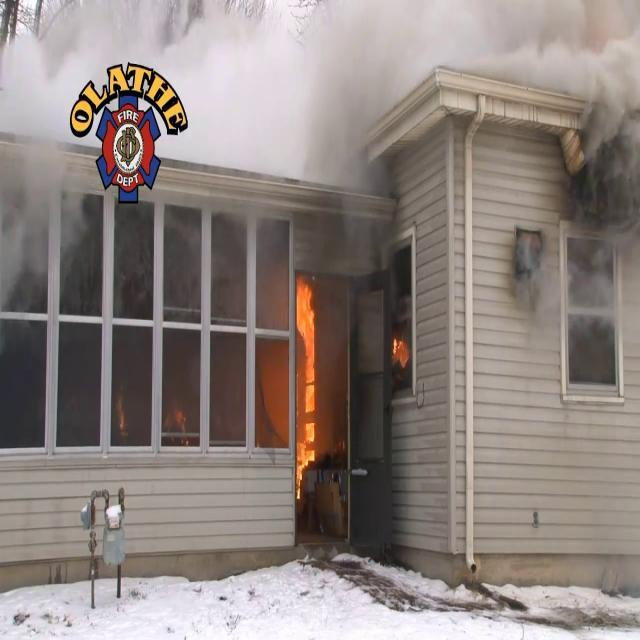Fire: (292, 266, 320, 494), (390, 324, 410, 373)
Smoke: (524, 0, 640, 362), (317, 3, 409, 447), (0, 13, 90, 359)
